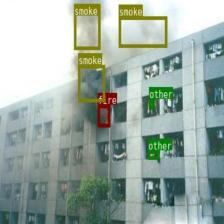fire: (98, 104, 110, 127)
smoke: (118, 16, 167, 47), (73, 3, 100, 49), (78, 64, 104, 102)
